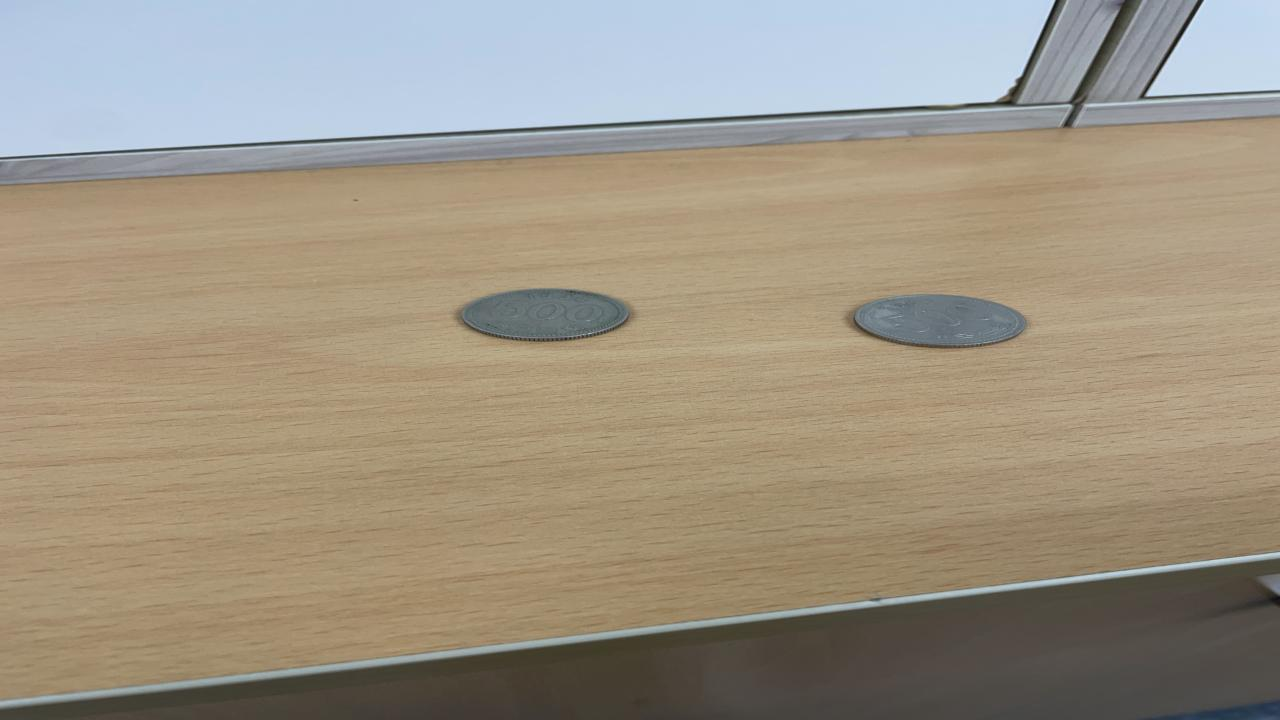coin: (847, 290, 1030, 349), (454, 286, 633, 342)
